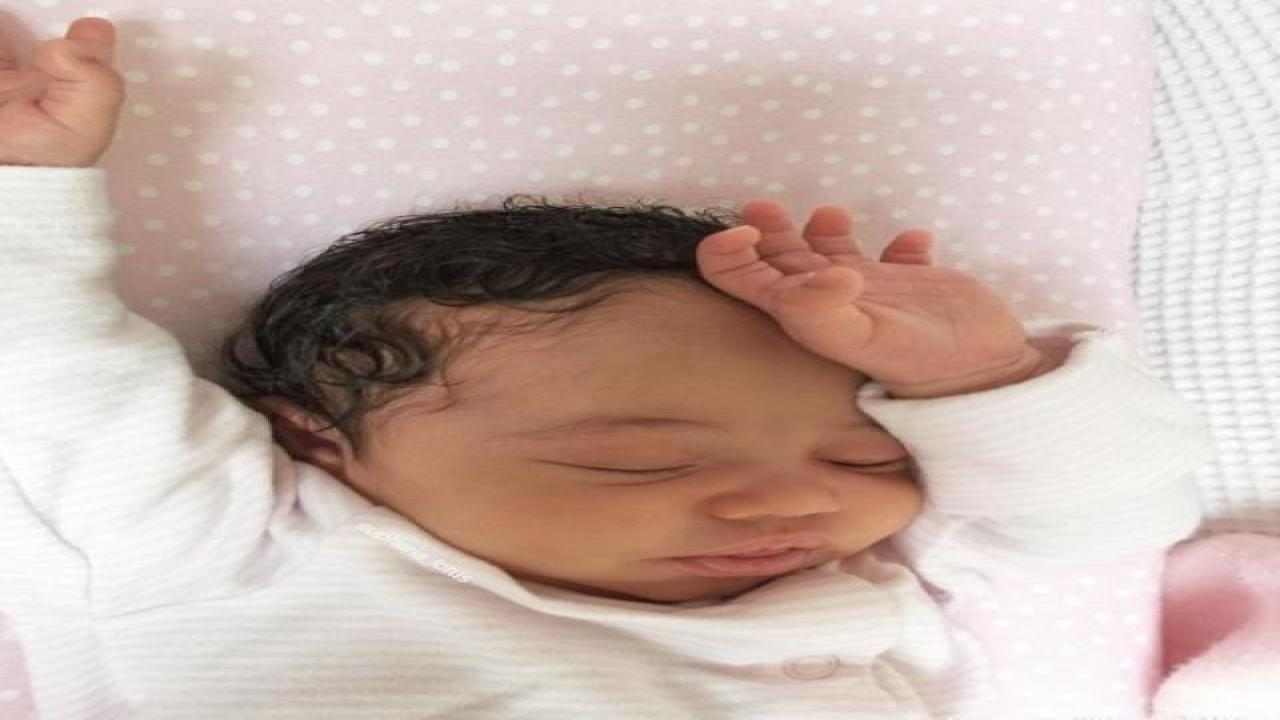hand: (691, 195, 1044, 376), (0, 17, 122, 165)
